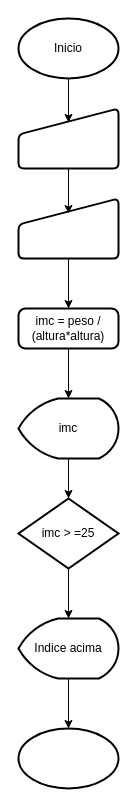
The diagram is 136 pixels wide and 806 high, and some of its shapes have lost their labels. The centre of each missing label's shape, as x and y in pixels:
"altura" belongs at pixel 68 138.
"Fim" belongs at pixel 68 758.
"peso" belongs at pixel 68 228.
